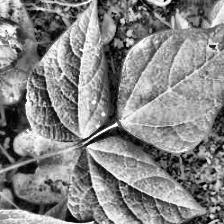ALS: (118, 6, 224, 150), (27, 0, 108, 131), (18, 130, 86, 204), (0, 0, 27, 99)
